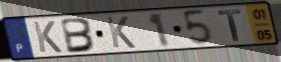1: (147, 12, 171, 49)
5: (180, 8, 215, 48)
B: (59, 16, 98, 55)
K: (104, 16, 138, 50), (31, 20, 64, 54)
T: (216, 8, 243, 43)
